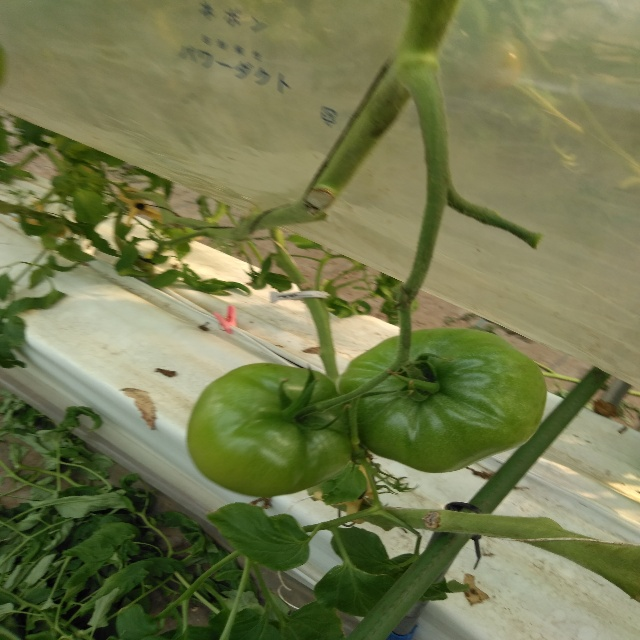b_green: (338, 328, 548, 474), (186, 362, 358, 497)
